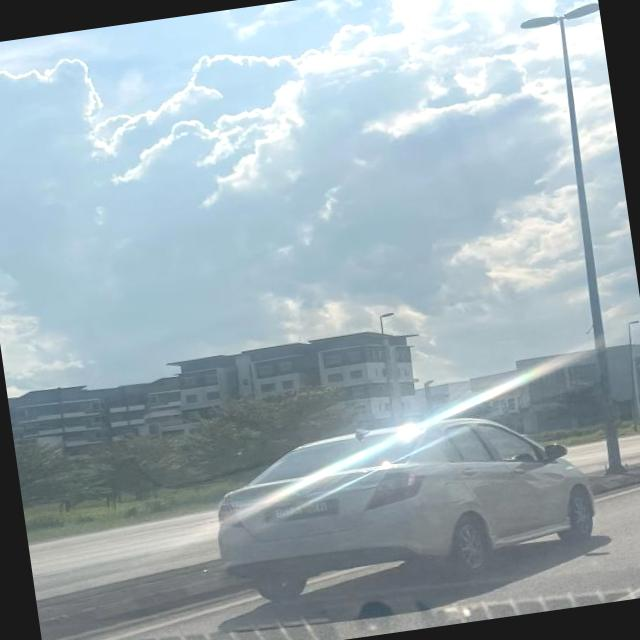PeroduaBezza: (204, 396, 604, 610)
